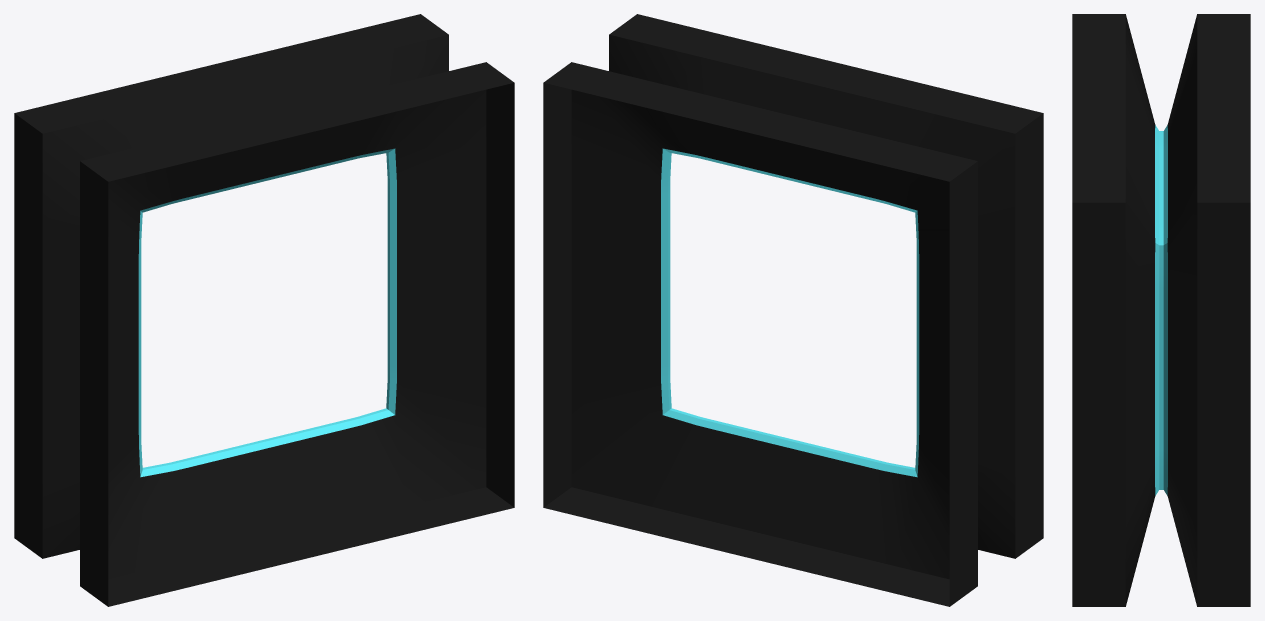
Rendered from wormhole.FBX.
3 views of the same model, side by side, from view 1: azimuth 30°, elevation 25°; view 2: azimuth 150°, elevation 25°; view 3: azimuth 270°, elevation 25° (orthographic). The views are drawn at different scales.
Visible parts, largest first — view 1: wormhole; view 2: wormhole; view 3: wormhole.
Part boxes in pixels (x1,y1,x2,y2): wormhole: (14, 14, 514, 606); wormhole: (543, 14, 1043, 606); wormhole: (1072, 14, 1250, 606).
Bounding box in the file's own units: 25 × 25 × 10.
